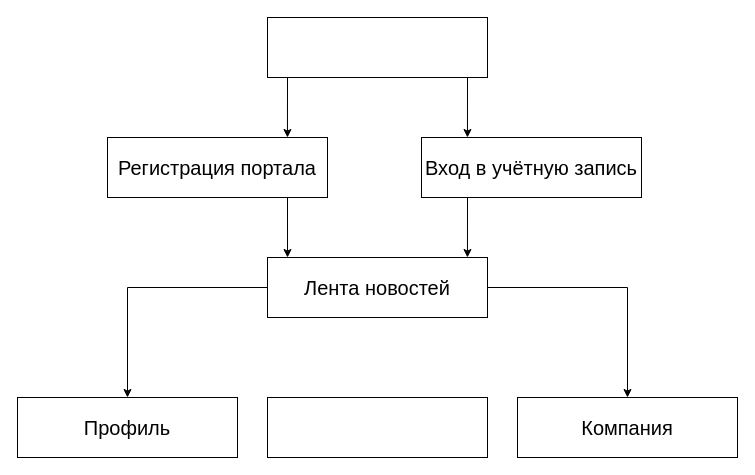
The diagram is 755 pixels wide and 475 high, and some of its shapes have lost their labels. The box of each missing label's shape, as (x1, y1, x2, y2) in pixels:
Стартовая страница: (266, 16, 488, 78)
Чаты: (266, 396, 488, 458)
